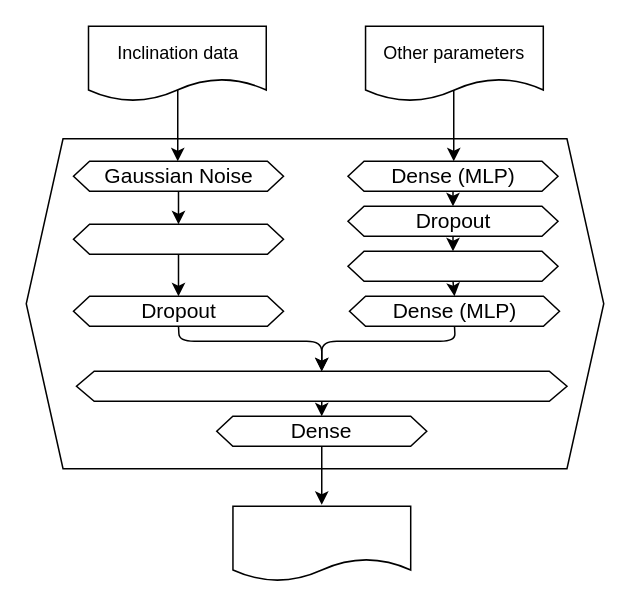
The diagram is 630 pixels wide and 608 high, and some of its shapes have lost their labels. The centre of each missing label's shape, as x and y in pixels:
"Concatenate" goes at (321,385).
"Flatten" goes at (452,265).
"GRU (RNN)" goes at (178,238).
"Predicted inclination" goes at (321,543).
